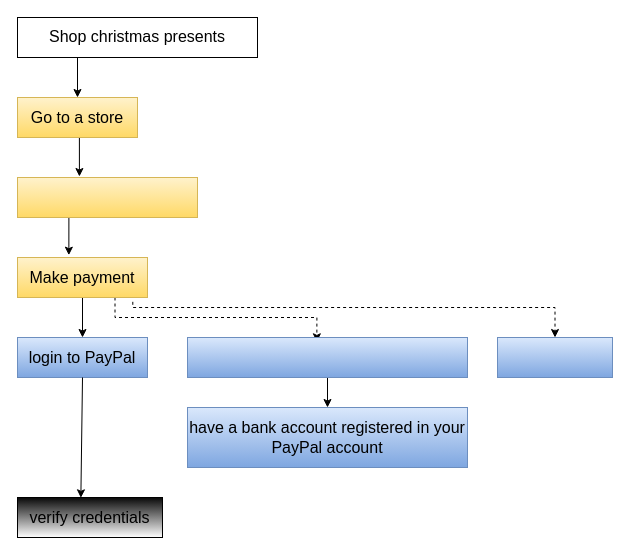
This 630x555 diagram has some shape labels left out. Each missing label, with the box of its shape:
Finalize shopping: (16, 176, 198, 218)
select bank account / paypal credit: (186, 336, 468, 378)
verify amount: (496, 336, 612, 378)
